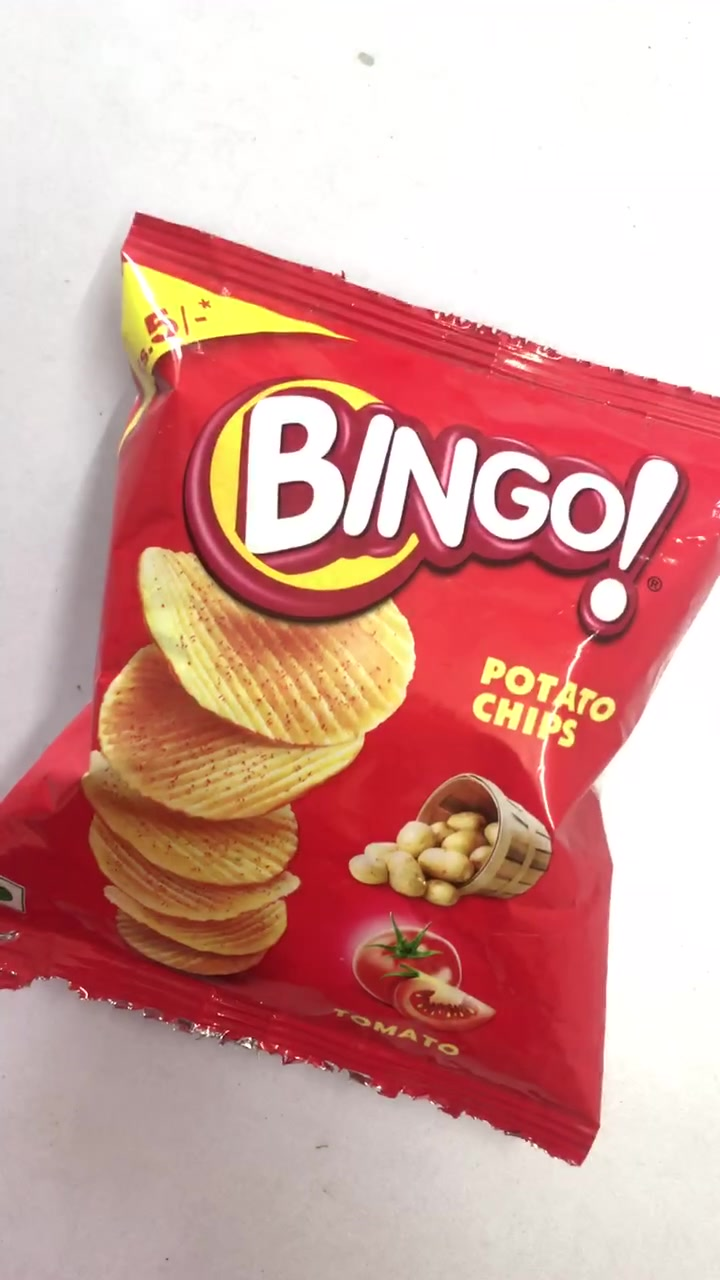Bingo: (1, 220, 717, 1156)
